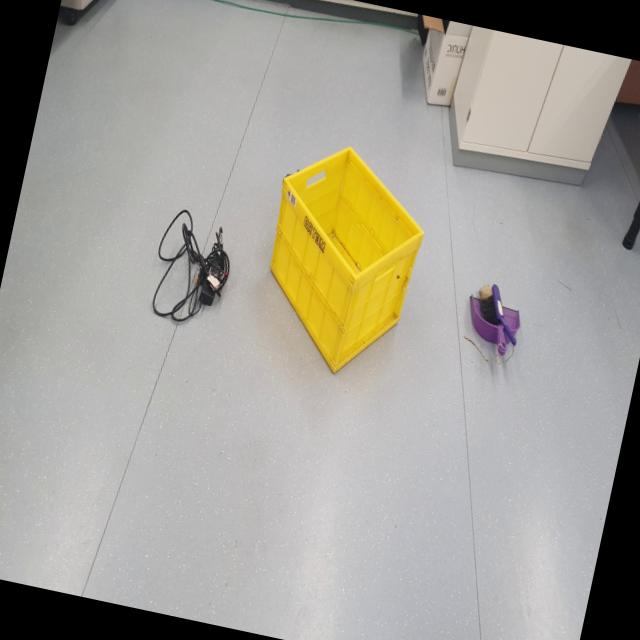box: (237, 128, 448, 402)
